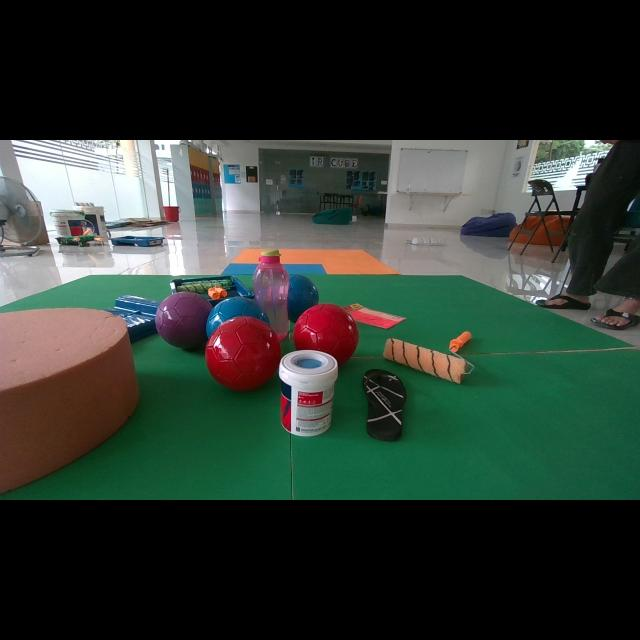B: (206, 296, 269, 338), (288, 274, 319, 322)
P: (155, 292, 212, 349)
R: (205, 316, 281, 391), (295, 304, 359, 365)
